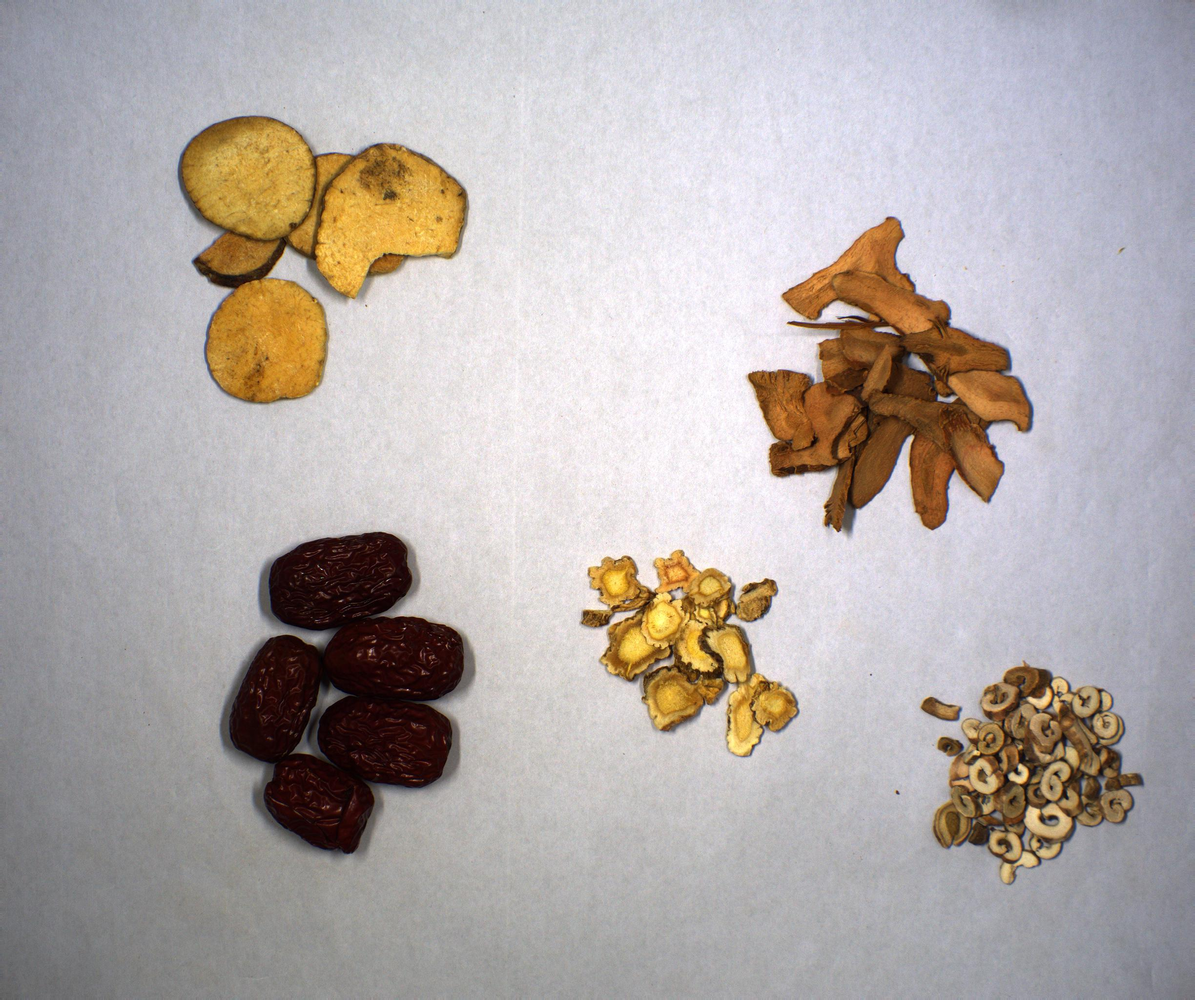dazao: (219, 528, 472, 855)
gaoliangjiang: (748, 214, 1034, 530)
jiegeng: (577, 549, 803, 762)
mudanpi: (916, 664, 1155, 886)
zexie: (163, 111, 468, 410)
